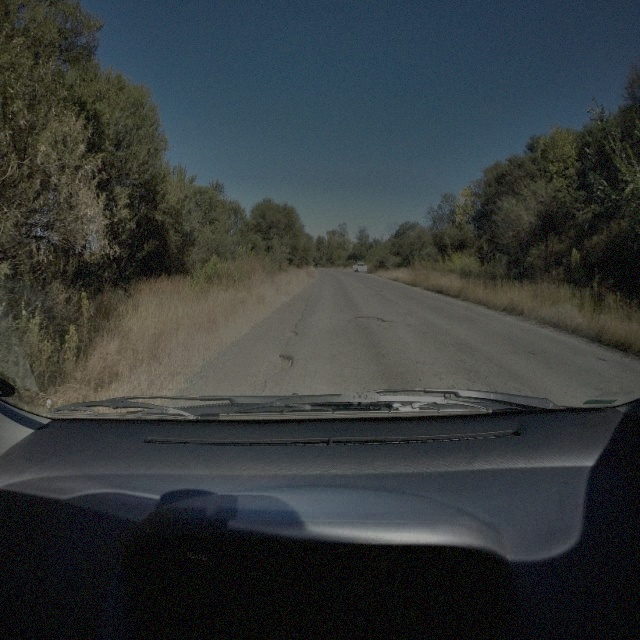pothole: (355, 313, 386, 325)
